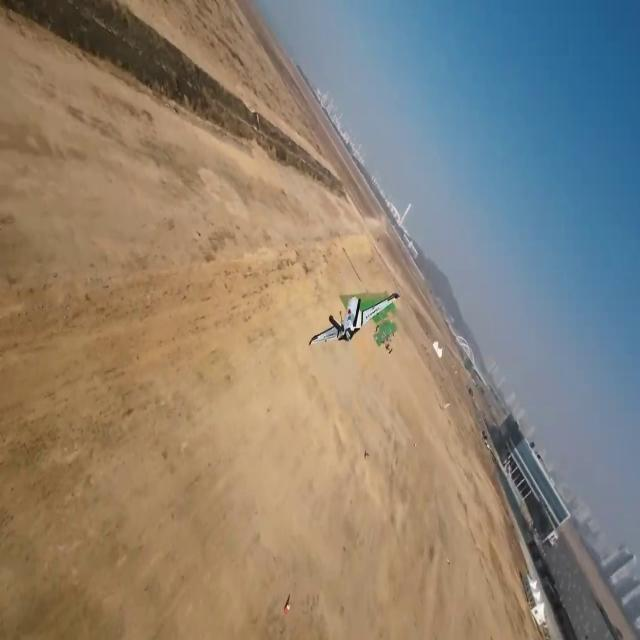iha: (338, 291, 366, 347)
